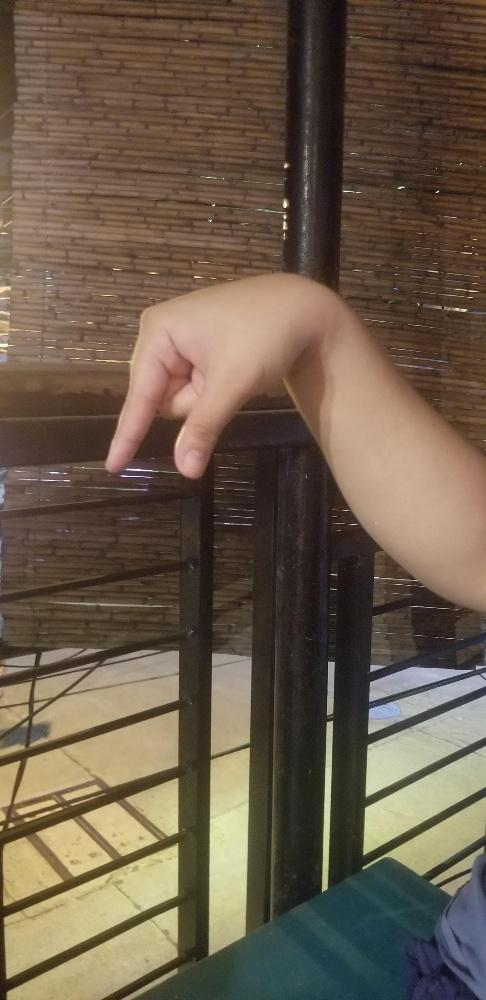q: (104, 270, 296, 478)
